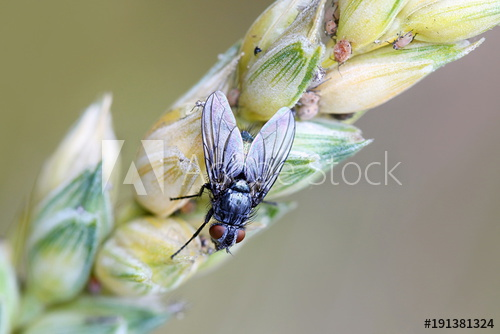green bottles fly: (165, 90, 315, 271)
